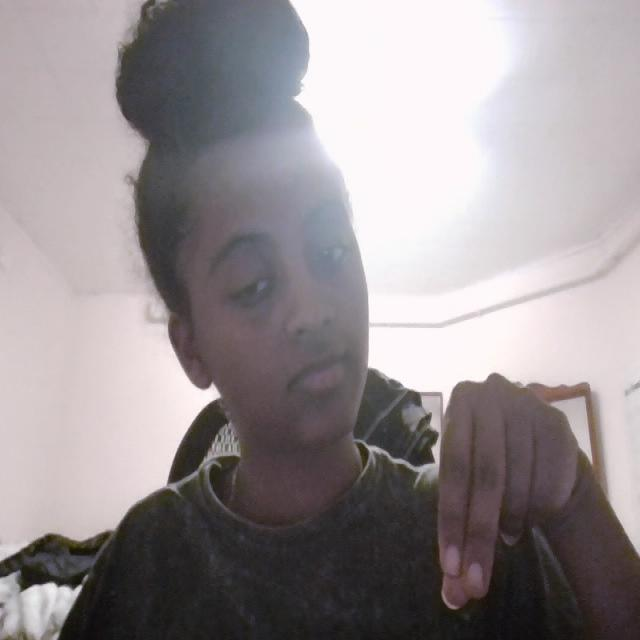no: (416, 344, 632, 621)
